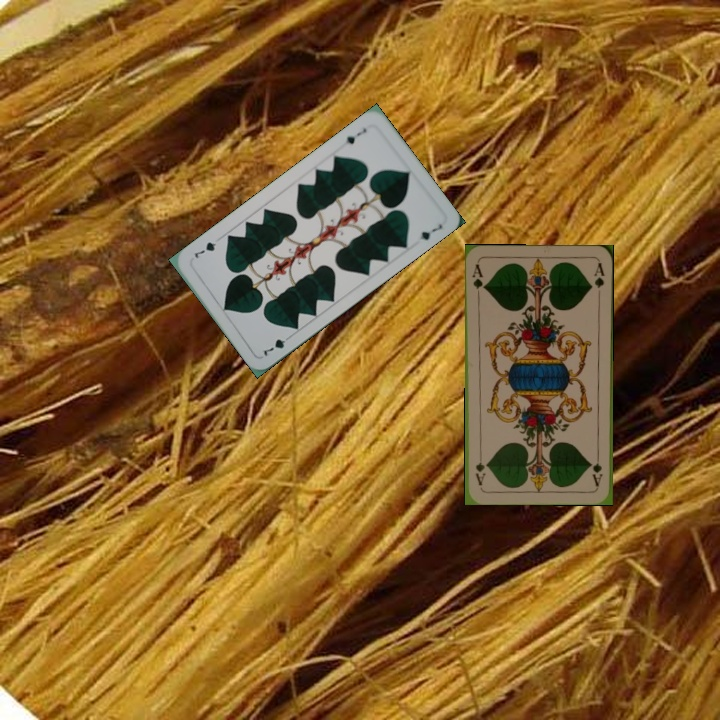G7: (259, 331, 295, 359), (342, 124, 369, 147)
GA: (468, 260, 487, 300), (589, 448, 605, 489)
